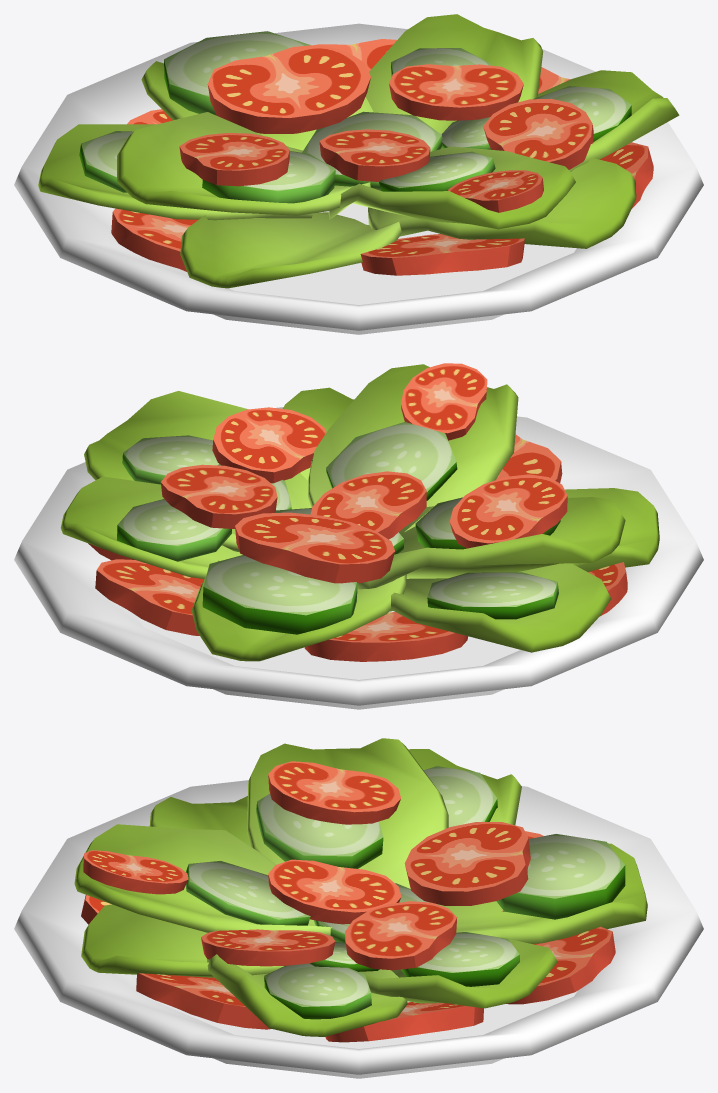
The model's file is FullSalad.fbx.
The picture shows the model from 3 angles, top to bottom: view 1: azimuth 30°, elevation 25°; view 2: azimuth 150°, elevation 25°; view 3: azimuth 270°, elevation 25°; orthographic projection.
Parts seen in each view (by area): view 1: FullSaladPlate, LettuceSalad.014, TomatoSalad.021, LettuceSalad.017, LettuceSalad.013, LettuceSalad.016, LettuceSalad.012, TomatoSalad.022, TomatoSalad.026, LettuceSalad.015, TomatoSalad, CucumberSalad.016 (+15 smaller); view 2: FullSaladPlate, LettuceSalad.016, LettuceSalad.017, LettuceSalad.015, CucumberSalad.016, TomatoSalad.021, TomatoSalad.024, TomatoSalad.026, LettuceSalad.012, LettuceSalad.020, CucumberSalad.017, LettuceSalad.011 (+13 smaller); view 3: FullSaladPlate, LettuceSalad.016, LettuceSalad.017, TomatoSalad.021, CucumberSalad.016, LettuceSalad.013, TomatoSalad.024, TomatoSalad.022, TomatoSalad.023, LettuceSalad.011, CucumberSalad.019, LettuceSalad.012 (+14 smaller).
Boxes of the visible parts, x1,y1,x2,y2 form: FullSaladPlate: (14,23,703,334); LettuceSalad.014: (180,212,401,288); TomatoSalad.021: (207,44,370,133); LettuceSalad.017: (117,112,370,215); LettuceSalad.013: (368,158,636,248); LettuceSalad.016: (328,146,575,229); LettuceSalad.012: (365,14,543,134); TomatoSalad.022: (389,64,523,120); TomatoSalad.026: (483,98,593,169); LettuceSalad.015: (38,124,313,220); TomatoSalad: (360,234,524,275); CucumberSalad.016: (164,31,310,115); FullSaladPlate: (14,399,703,709); LettuceSalad.016: (308,364,518,531); LettuceSalad.017: (357,497,625,589); LettuceSalad.015: (389,563,611,652); CucumberSalad.016: (202,555,357,634); TomatoSalad.021: (235,512,395,583); TomatoSalad.024: (449,474,567,548); TomatoSalad.026: (212,407,326,483); LettuceSalad.012: (60,476,242,579); LettuceSalad.020: (84,391,310,552); CucumberSalad.017: (326,422,457,500); LettuceSalad.011: (191,560,406,661); FullSaladPlate: (14,780,703,1078); LettuceSalad.016: (74,824,331,935); LettuceSalad.017: (247,738,448,888); TomatoSalad.021: (404,822,530,905); CucumberSalad.016: (496,834,625,919); LettuceSalad.013: (81,904,283,977); TomatoSalad.024: (268,761,400,824); TomatoSalad.022: (345,901,457,970); TomatoSalad.023: (268,859,401,924); LettuceSalad.011: (439,843,647,943); CucumberSalad.019: (256,794,383,868); LettuceSalad.012: (365,938,557,1008).
Bounding box in the file's own units: 0.6132 × 0.1251 × 0.6132.
Materials: 4 (4 with a texture image).
